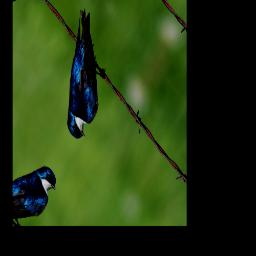Swallow: (36, 5, 128, 147)
